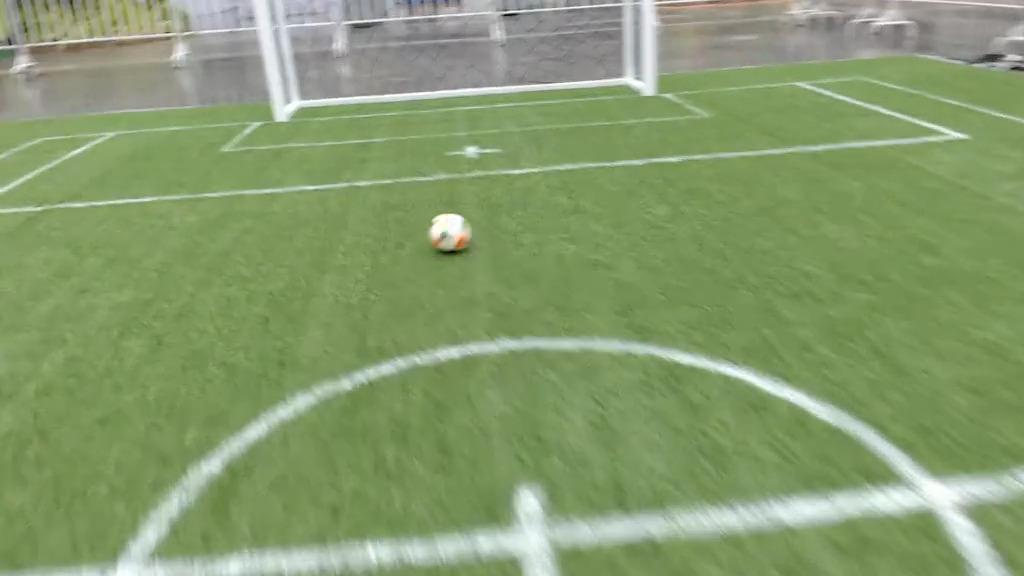ball: (424, 207, 479, 260)
